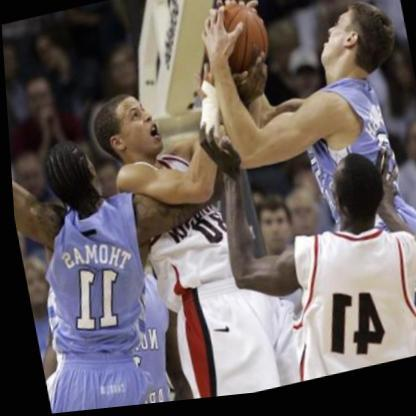basketball: (200, 0, 275, 83)
